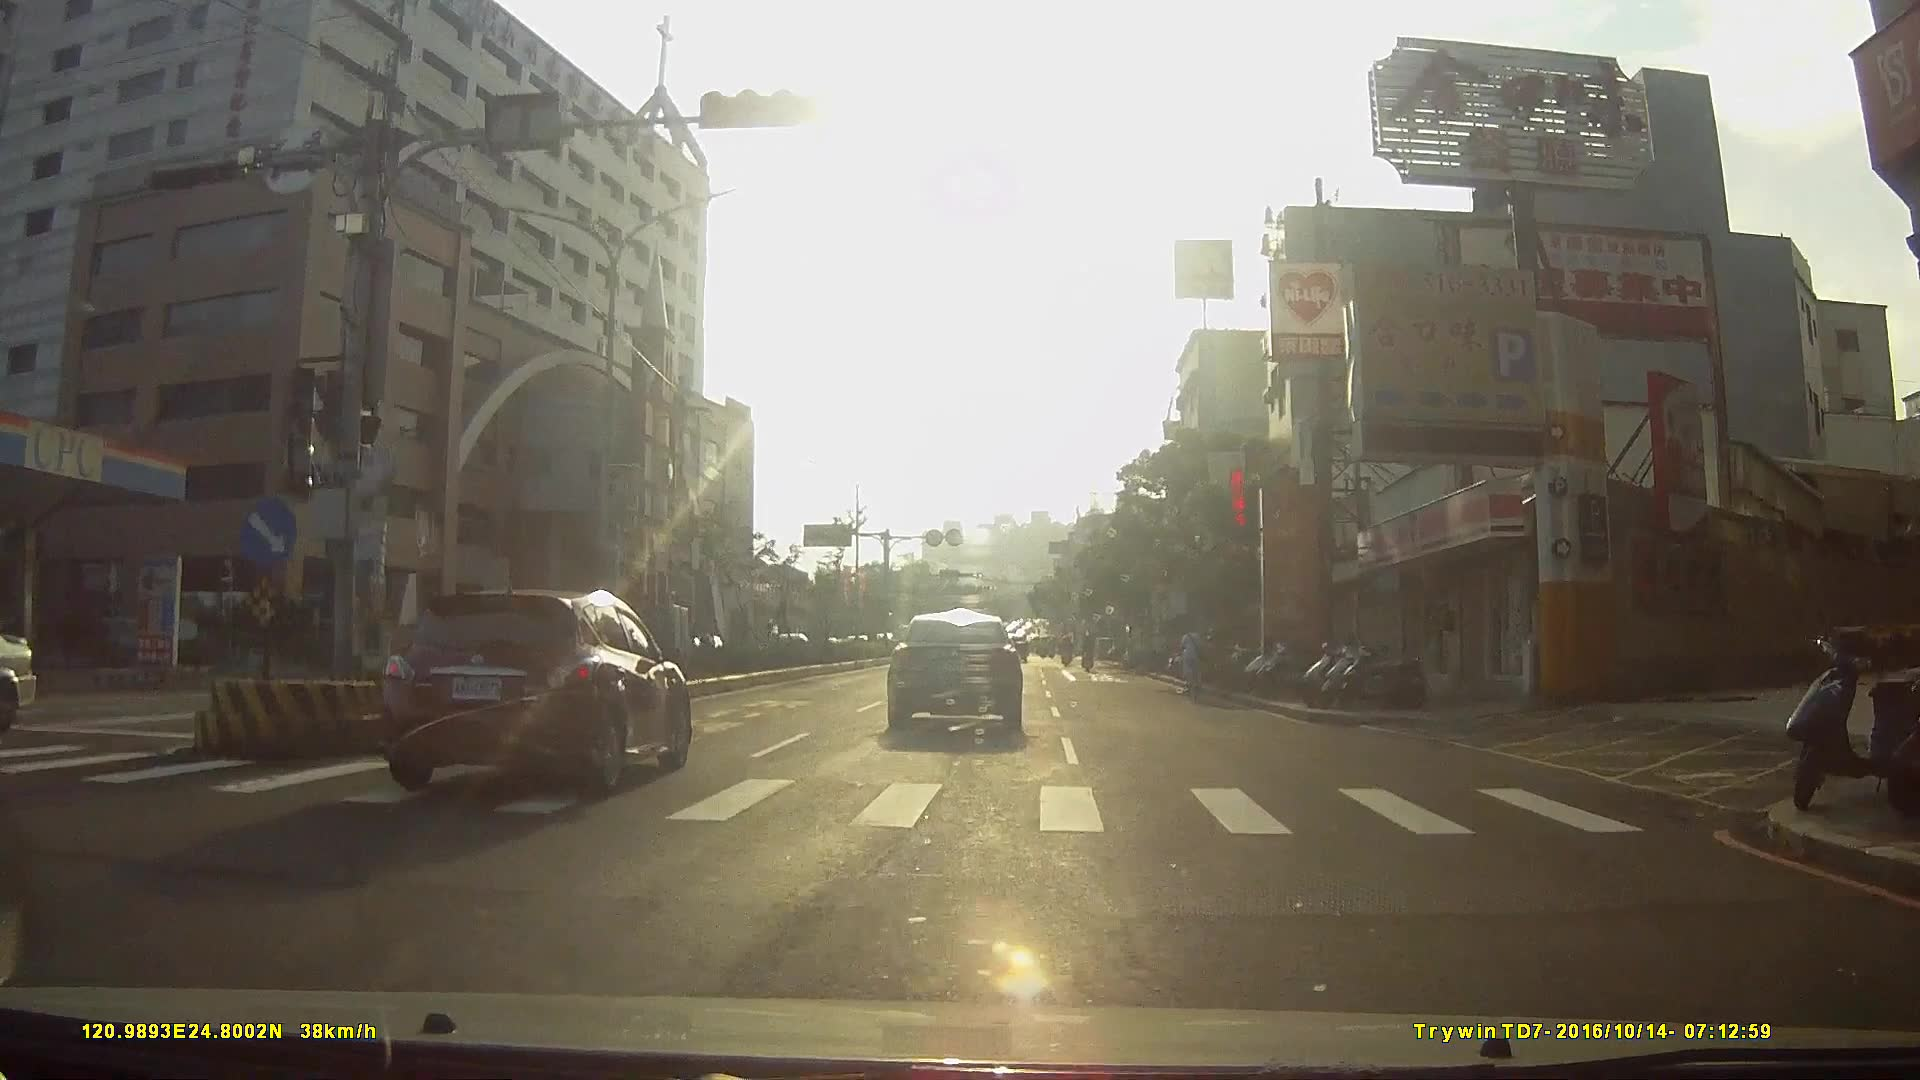rider: (1177, 620, 1209, 706)
vehicle: (369, 581, 703, 803), (883, 605, 1037, 739), (763, 607, 822, 662)
